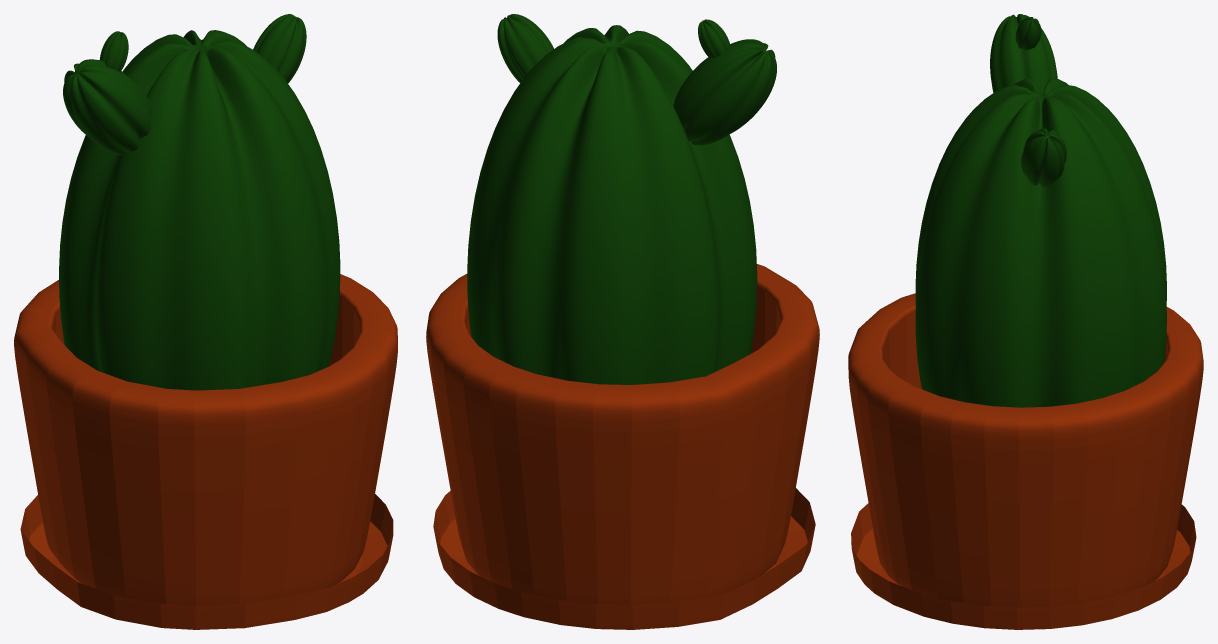
Rendered from maceta1.fbx.
3 renders of one model, left to right at view 1: azimuth 30°, elevation 25°; view 2: azimuth 150°, elevation 25°; view 3: azimuth 270°, elevation 25°, orthographic. The views are drawn at different scales.
Parts seen in each view (by area): view 1: maceta1; view 2: maceta1; view 3: maceta1.
Boxes of the visible parts, bbox=[...] form: maceta1: bbox=[14, 14, 397, 629]; maceta1: bbox=[426, 14, 819, 629]; maceta1: bbox=[848, 14, 1203, 629].
Size of the model in its own units: 18.74 by 29.88 by 19.01.
